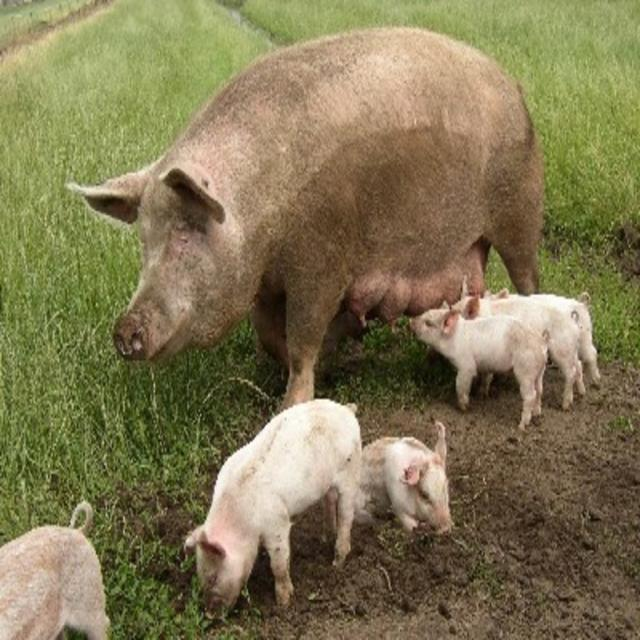Pig: (67, 26, 602, 618), (0, 497, 109, 638)
